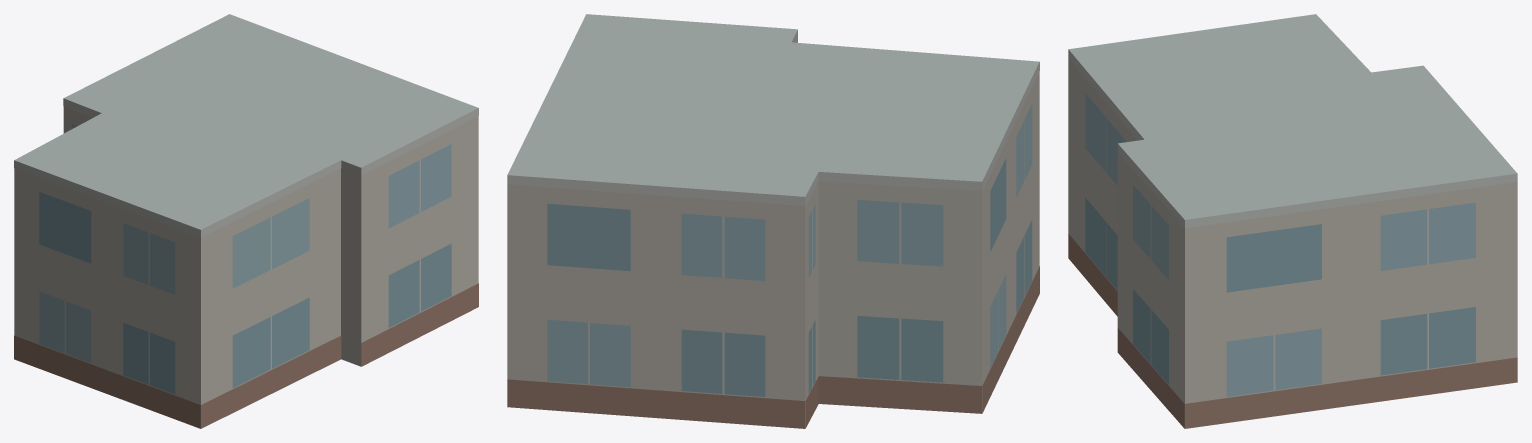
Rendered from survey-upis-32826791.glb.
The picture shows the model from 3 angles, left to right: view 1: azimuth 30°, elevation 25°; view 2: azimuth 150°, elevation 25°; view 3: azimuth 270°, elevation 25°; orthographic projection. The views are drawn at different scales.
Parts seen in each view (by area): view 1: survey-upis-32826791.tmp; view 2: survey-upis-32826791.tmp; view 3: survey-upis-32826791.tmp.
Part boxes in pixels (x1,y1,x2,y2): survey-upis-32826791.tmp: [14, 14, 478, 428]; survey-upis-32826791.tmp: [507, 14, 1039, 428]; survey-upis-32826791.tmp: [1068, 14, 1517, 428].
Bounding box in the file's own units: 12.91 × 6.1 × 11.9.
